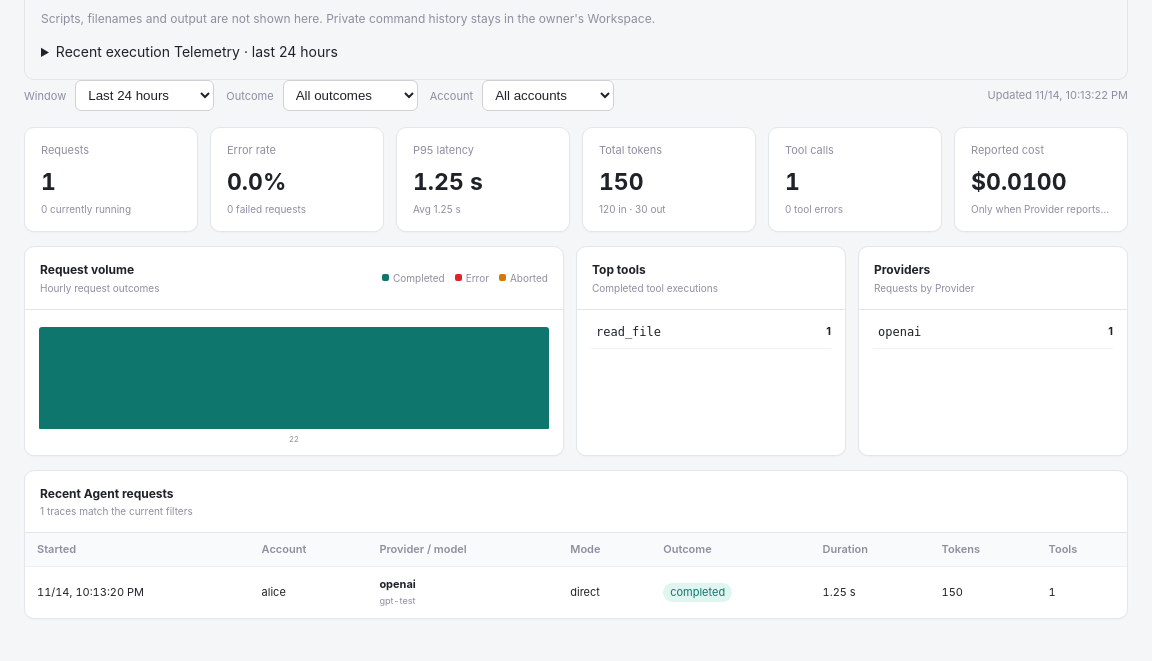
Test case: TelemetryDashboard › renders aggregate health and opens a content-free trace timeline
(page scrolled)
Click the row with test id "telemetry-span-row" at (576, 592), box [25,567,1127,618]
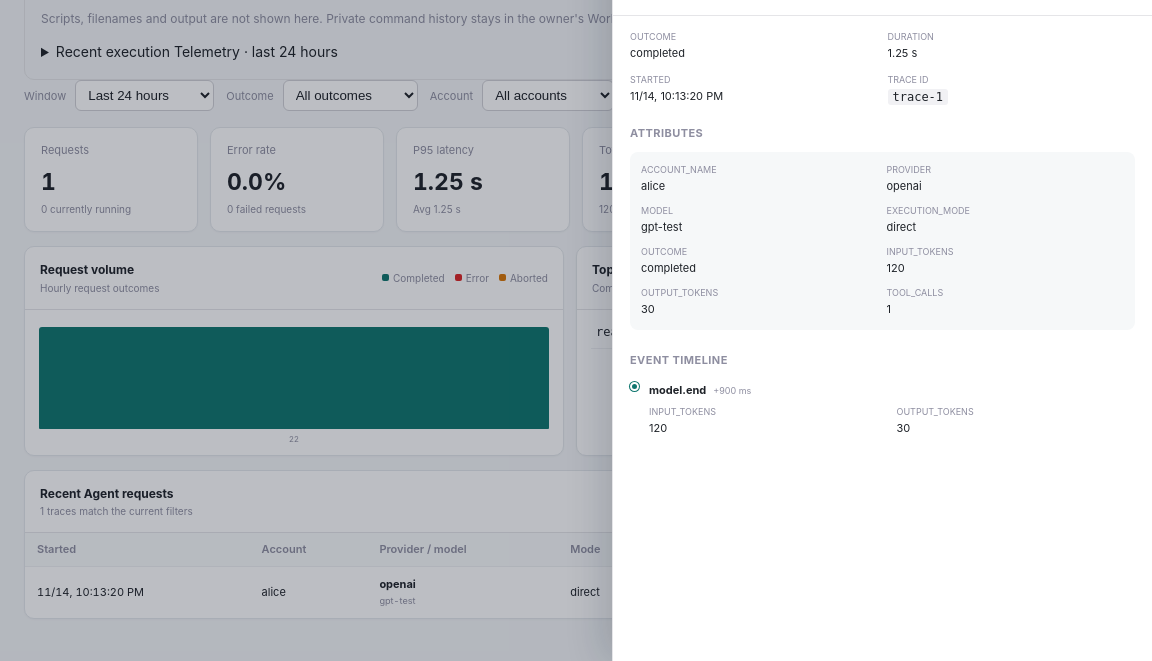
Now the element with test id "telemetry-span-detail" shows "model.end", box [649,383,706,397]
